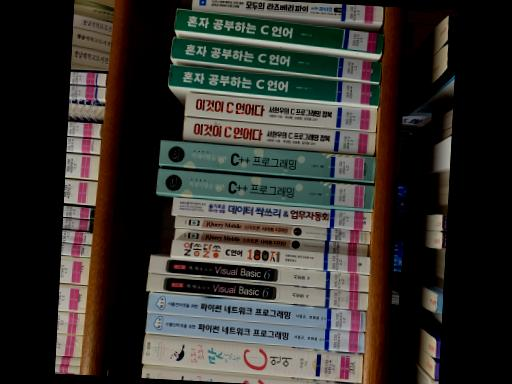book-spine: (141, 333, 362, 383), (171, 37, 380, 82), (156, 168, 373, 211), (174, 8, 383, 52), (157, 139, 375, 181), (144, 312, 364, 353), (147, 291, 365, 332), (168, 64, 379, 104), (146, 272, 367, 309), (148, 254, 368, 291), (184, 91, 376, 131), (182, 115, 376, 154), (170, 239, 370, 275), (171, 196, 370, 230), (174, 227, 368, 256), (174, 215, 369, 243), (191, 0, 383, 22), (141, 365, 359, 384)
